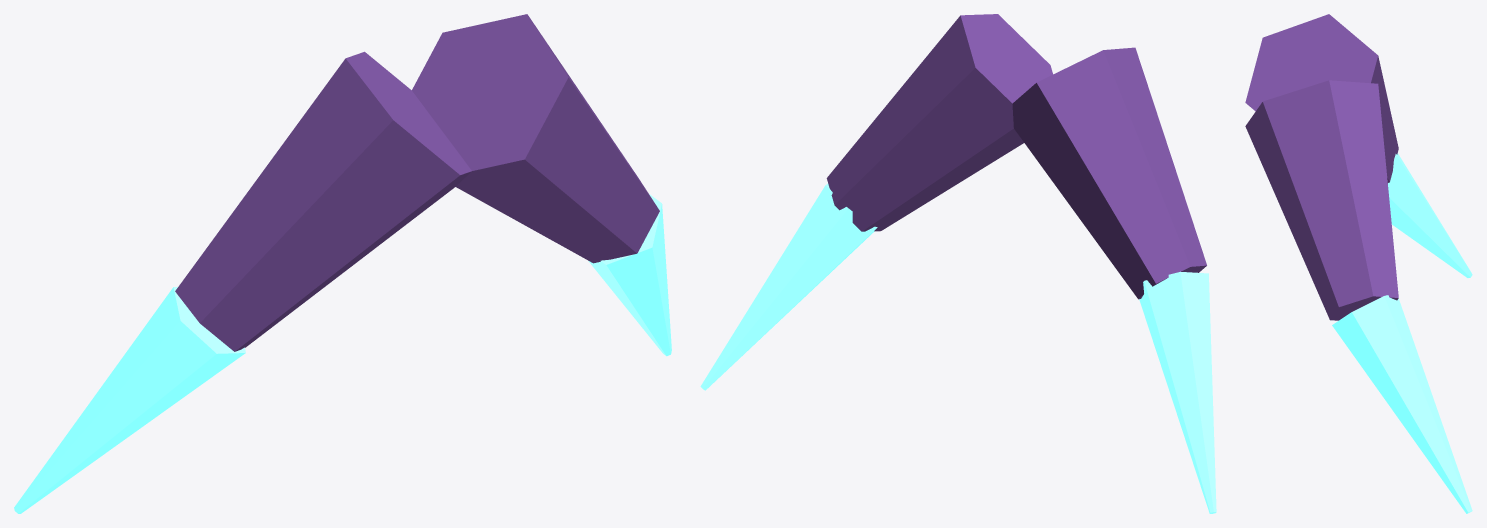
Rendered from SM_Xayah_Cape.fbx.
The picture shows the model from 3 angles, left to right: view 1: azimuth 30°, elevation 25°; view 2: azimuth 150°, elevation 25°; view 3: azimuth 270°, elevation 25°; orthographic projection. The views are drawn at different scales.
Visible parts, largest first — view 1: SM_Xayah_Cape; view 2: SM_Xayah_Cape; view 3: SM_Xayah_Cape.
Part boxes in pixels (box(x1,y1,x2,y2)): SM_Xayah_Cape: box(14, 14, 671, 513); SM_Xayah_Cape: box(700, 14, 1216, 513); SM_Xayah_Cape: box(1245, 14, 1472, 513).
Bounding box in the file's own units: 64.71 × 25.94 × 43.91.
